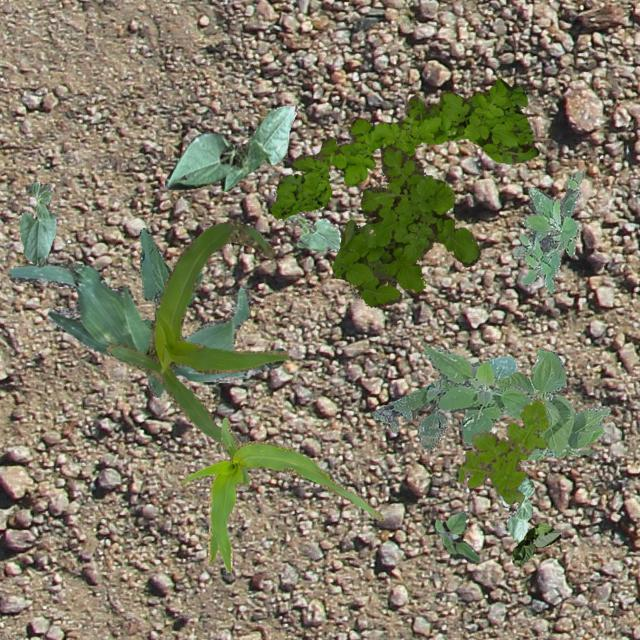crop: (105, 218, 288, 442), (7, 262, 284, 382), (180, 416, 384, 572), (494, 348, 610, 458), (164, 104, 296, 190), (138, 226, 202, 396), (272, 187, 340, 250), (18, 180, 56, 266), (498, 474, 534, 542), (512, 522, 560, 566)
weed: (268, 78, 538, 220), (332, 144, 479, 306), (422, 346, 550, 444), (371, 360, 478, 450), (457, 398, 547, 503), (512, 170, 584, 292), (434, 510, 478, 562)
